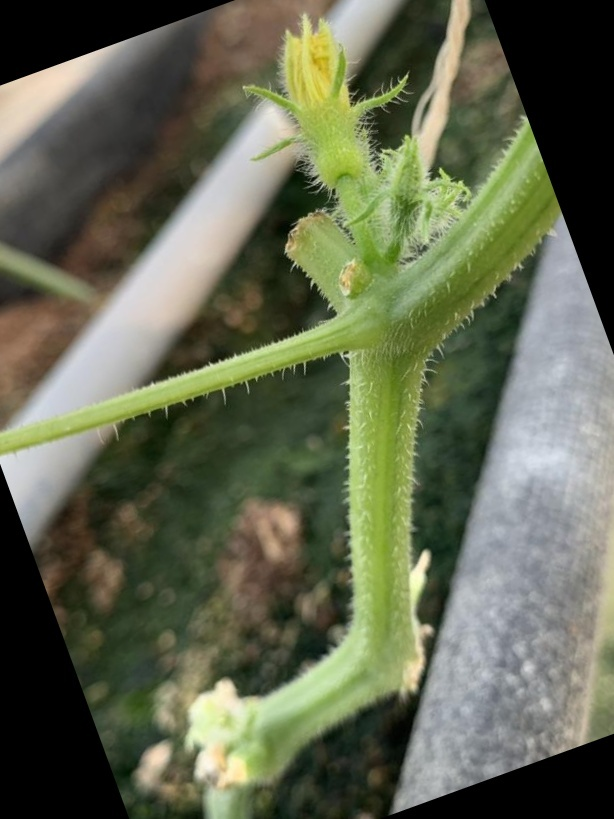bud: (251, 17, 401, 200)
